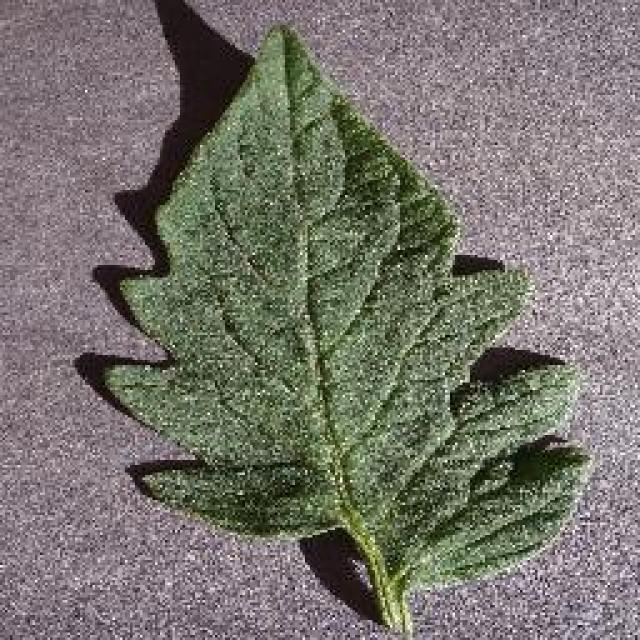Tomato_Healthy: (81, 17, 608, 579)
